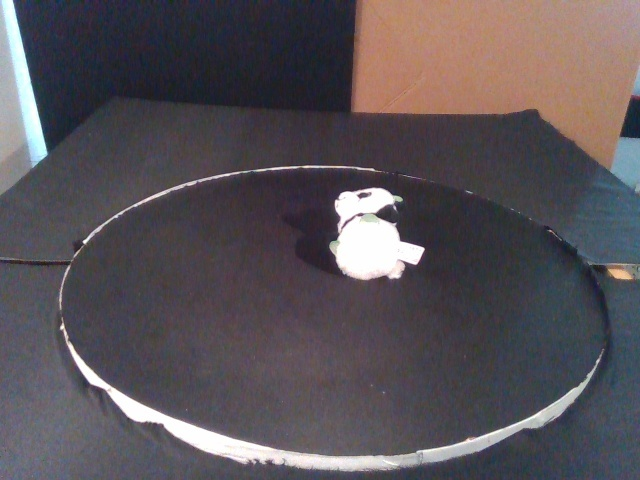teddy_bear: (328, 186, 406, 282)
